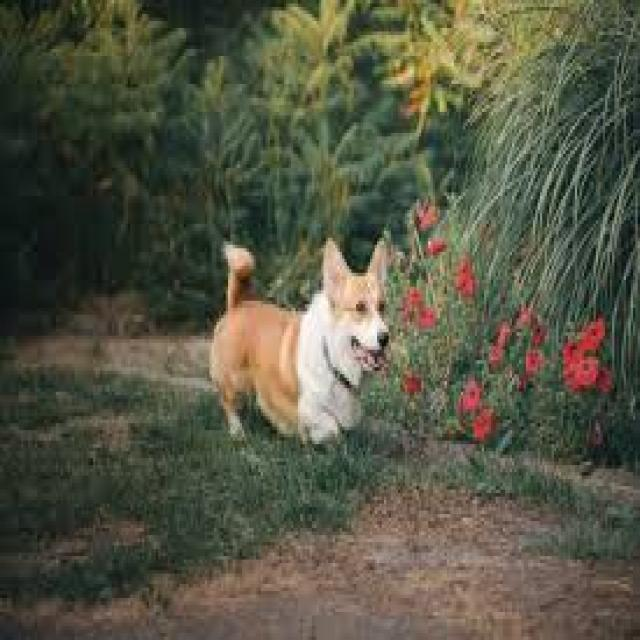CORGI: (210, 221, 383, 461)
